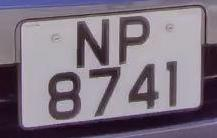1: (159, 55, 186, 113)
4: (125, 58, 162, 116)
7: (82, 64, 127, 117)
8: (45, 71, 87, 122)
N: (68, 17, 116, 70)
P: (113, 10, 155, 66)
